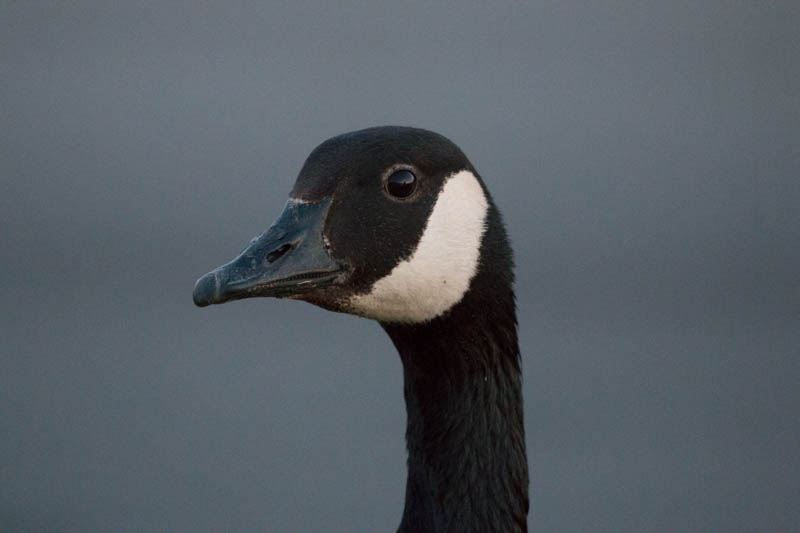goose-head: (191, 125, 514, 323)
